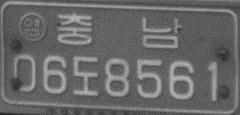0: (12, 53, 36, 92)
1: (199, 61, 224, 102)
5: (136, 58, 162, 99)
6: (168, 60, 194, 100), (42, 55, 67, 94)
8: (104, 58, 130, 98)
도: (71, 55, 100, 97)
영: (17, 11, 46, 42)
충남_D: (56, 12, 182, 48)
